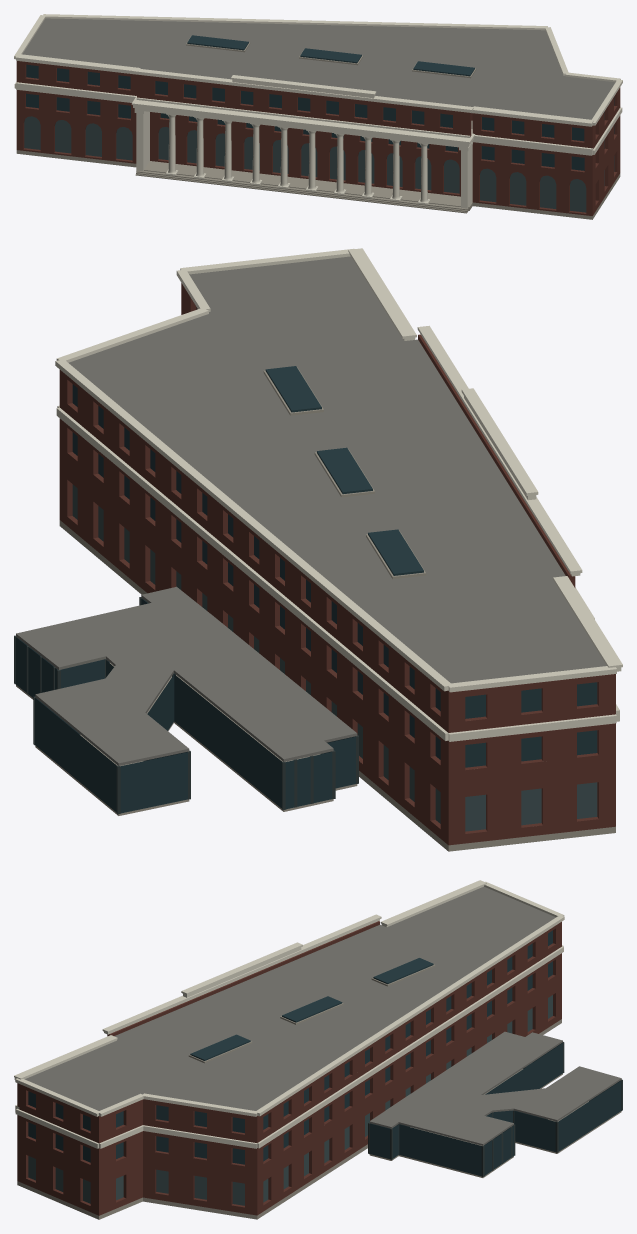
The model's file is waterfront-station-vancouver-far.glb.
The picture shows the model from 3 angles, top to bottom: view 1: azimuth 30°, elevation 25°; view 2: azimuth 150°, elevation 25°; view 3: azimuth 270°, elevation 25°; orthographic projection. The views are drawn at different scales.
Parts seen in each view (by area): view 1: waterfront-station-vancouver-0-roof, waterfront-station-vancouver-0-brick, waterfront-station-vancouver-0-stone, waterfront-station-vancouver-0-glow, waterfront-station-vancouver-0-glass, waterfront-station-vancouver-0-base; view 2: waterfront-station-vancouver-0-roof, waterfront-station-vancouver-0-brick, waterfront-station-vancouver-0-glass, waterfront-station-vancouver-0-stone, waterfront-station-vancouver-0-base, waterfront-station-vancouver-0-glow, waterfront-station-vancouver-0-metal; view 3: waterfront-station-vancouver-0-roof, waterfront-station-vancouver-0-brick, waterfront-station-vancouver-0-glass, waterfront-station-vancouver-0-stone, waterfront-station-vancouver-0-base, waterfront-station-vancouver-0-glow, waterfront-station-vancouver-0-metal.
Part boxes in pixels (x1,y1,x2,y2): waterfront-station-vancouver-0-roof: [22, 18, 615, 119]; waterfront-station-vancouver-0-brick: [16, 61, 620, 215]; waterfront-station-vancouver-0-stone: [14, 14, 622, 208]; waterfront-station-vancouver-0-glow: [24, 116, 614, 212]; waterfront-station-vancouver-0-glass: [26, 35, 614, 170]; waterfront-station-vancouver-0-base: [16, 36, 620, 219]; waterfront-station-vancouver-0-roof: [16, 256, 606, 765]; waterfront-station-vancouver-0-brick: [59, 283, 615, 845]; waterfront-station-vancouver-0-glass: [15, 307, 597, 813]; waterfront-station-vancouver-0-stone: [55, 248, 622, 741]; waterfront-station-vancouver-0-base: [16, 367, 615, 851]; waterfront-station-vancouver-0-glow: [72, 484, 597, 831]; waterfront-station-vancouver-0-metal: [14, 597, 358, 814]; waterfront-station-vancouver-0-roof: [25, 886, 621, 1145]; waterfront-station-vancouver-0-brick: [17, 921, 561, 1215]; waterfront-station-vancouver-0-glass: [28, 930, 621, 1176]; waterfront-station-vancouver-0-stone: [14, 880, 564, 1148]; waterfront-station-vancouver-0-base: [17, 964, 621, 1219]; waterfront-station-vancouver-0-glow: [28, 995, 552, 1205]; waterfront-station-vancouver-0-metal: [368, 1042, 622, 1176].
Size of the model in its own units: 98.28 by 23 by 109.
